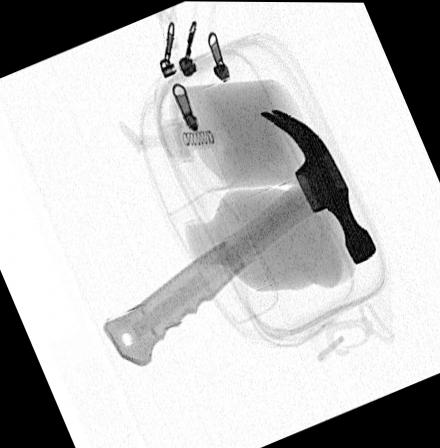Hammer: (102, 108, 376, 369)
